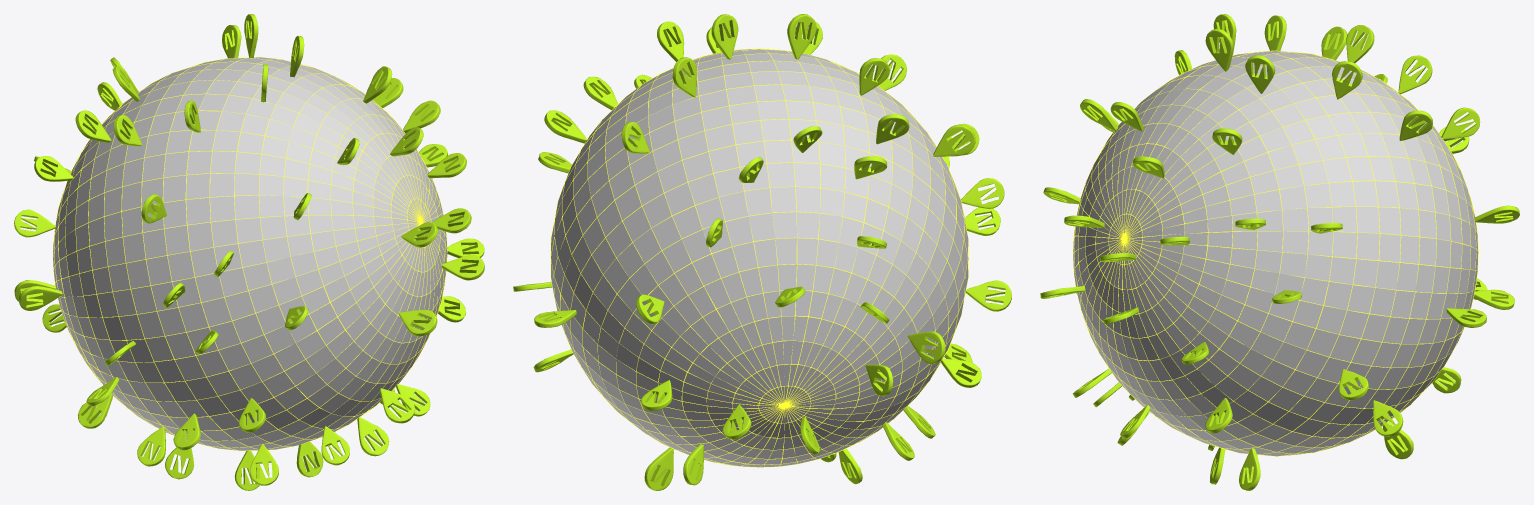
The model's file is NakaCard-WEB-3D-Globe01.glb.
3 renders of one model, left to right at view 1: azimuth 30°, elevation 25°; view 2: azimuth 150°, elevation 25°; view 3: azimuth 270°, elevation 25°, orthographic. The views are drawn at different scales.
Visible parts, largest first — view 1: Sphere.013; view 2: Sphere.013; view 3: Sphere.013.
Boxes of the visible parts, x1,y1,x2,y2 form: Sphere.013: (14,14,484,490); Sphere.013: (513,14,1011,490); Sphere.013: (1040,14,1519,490).
Bounding box in the file's own units: 0.4777 × 0.4758 × 0.4781.
